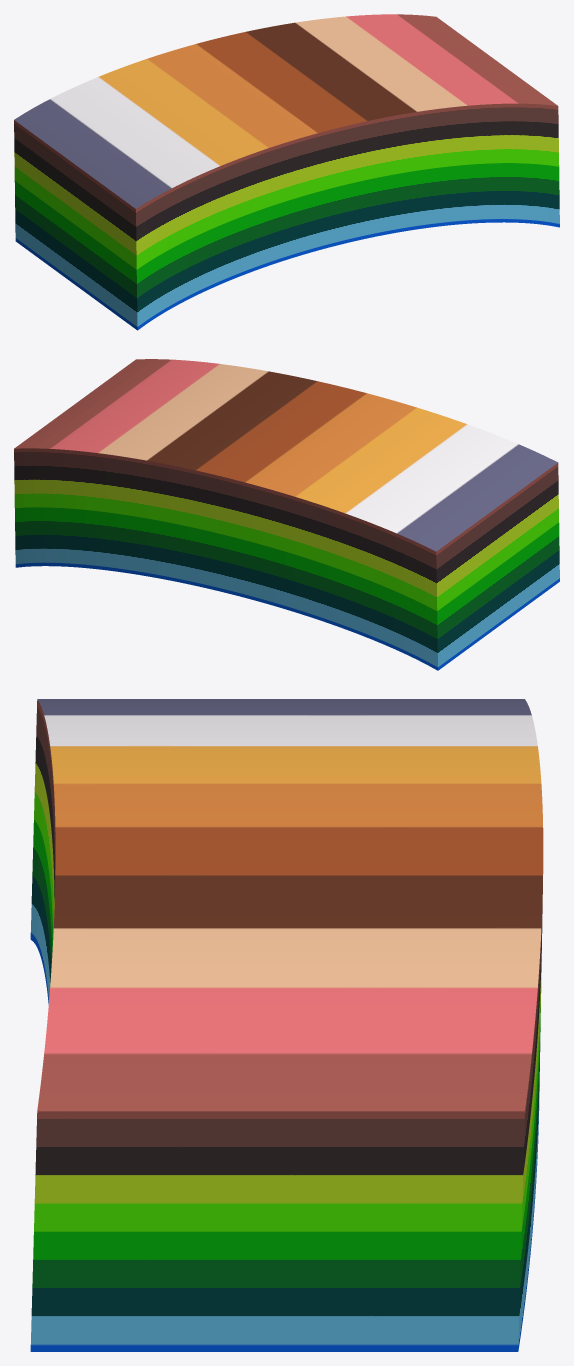
The model's file is Paddle1.fbx.
3 renders of one model, top to bottom at view 1: azimuth 30°, elevation 25°; view 2: azimuth 150°, elevation 25°; view 3: azimuth 270°, elevation 25°, orthographic. The views are drawn at different scales.
Parts seen in each view (by area): view 1: Cube; view 2: Cube; view 3: Cube.
Part boxes in pixels (x1,y1,x2,y2): Cube: (14,14,559,330); Cube: (14,359,559,670); Cube: (30,699,543,1351).
Size of the model in its own units: 4 by 1.34 by 2.1.
